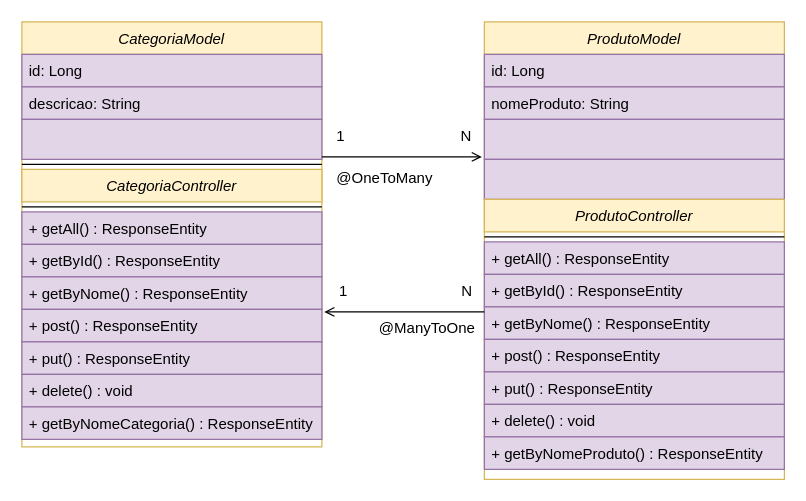
Image size: 806x501. Some labels were removed from this diagram. The shapes that lost their labels are listed below. From the top down, each one's centre as x and y in pixels, then its label:
the point at 171,138: nomeCategoria: String
the point at 633,138: descricaoProduto: String
the point at 633,178: preco: BigDecimal
